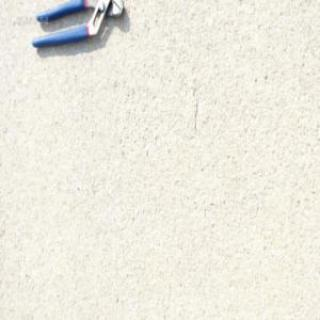Pliertrack_idkeyframe: (30, 0, 126, 50)
